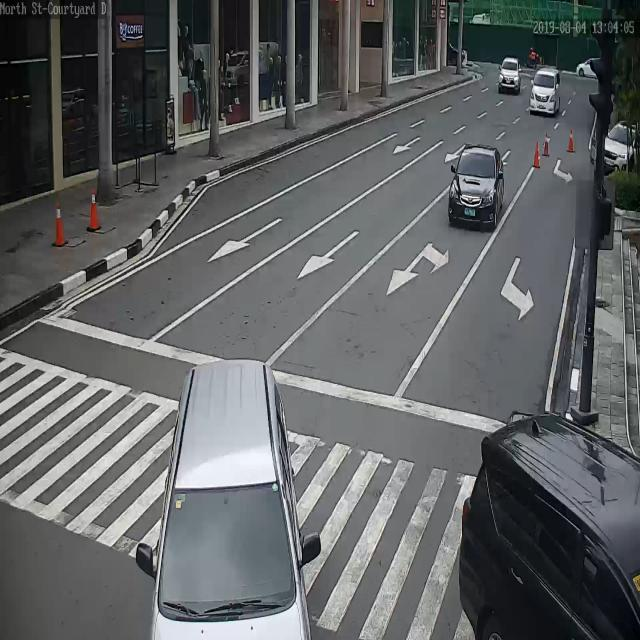car: (462, 410, 640, 638), (153, 369, 301, 638), (448, 144, 507, 229), (603, 119, 640, 177), (498, 58, 520, 92), (576, 58, 602, 79)
van: (530, 65, 564, 115)
